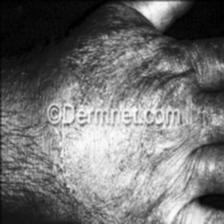Toxin: (54, 128, 134, 195)
